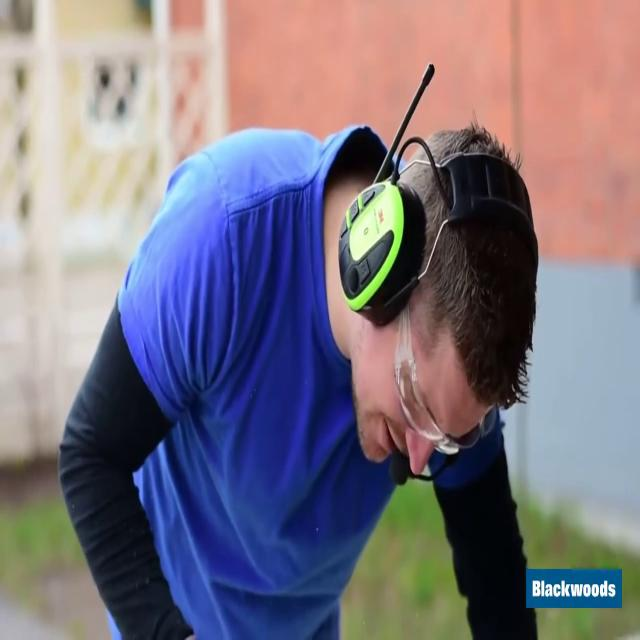earmuff: (334, 171, 428, 321)
glasses: (394, 308, 484, 459)
